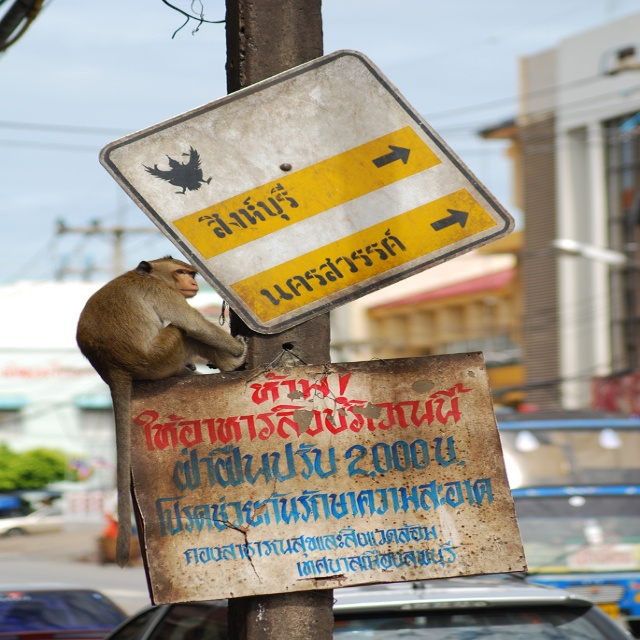Monkey: (75, 256, 249, 569)
